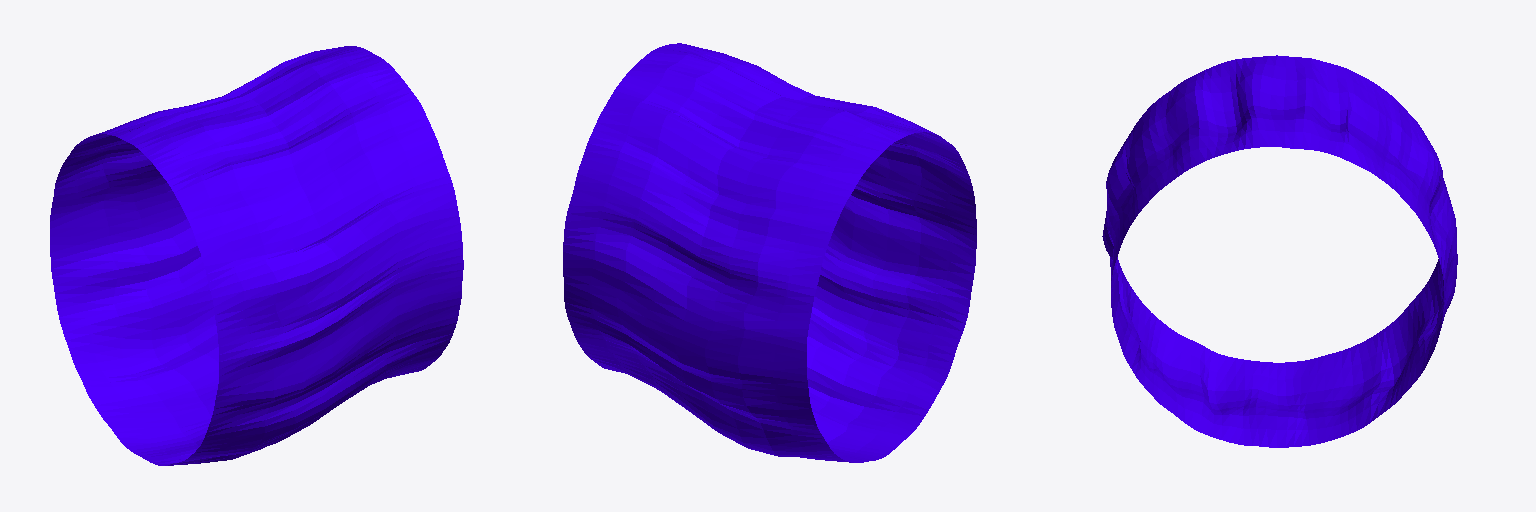
3 views of the same model, side by side, from view 1: azimuth 30°, elevation 25°; view 2: azimuth 150°, elevation 25°; view 3: azimuth 270°, elevation 25° (orthographic).
Parts seen in each view (by area): view 1: ER1; view 2: ER1; view 3: ER1.
Boxes of the visible parts, box(x1,y1,x2,y2) form: ER1: box(50, 46, 463, 465); ER1: box(563, 43, 976, 462); ER1: box(1102, 55, 1457, 447).
Size of the model in its own units: 1.72 by 2.26 by 2.13.